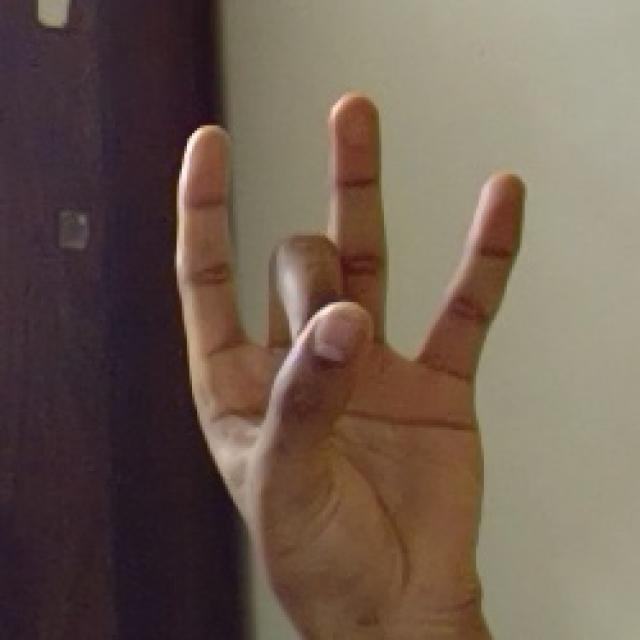Numeric-8: (168, 83, 524, 626)
